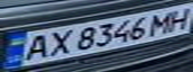3: (93, 20, 118, 48)
4: (112, 17, 136, 44)
6: (127, 14, 154, 40)
8: (75, 24, 100, 52)
A: (15, 32, 54, 62)
H: (163, 6, 193, 33)
M: (145, 10, 178, 36)
X: (42, 27, 75, 58)
